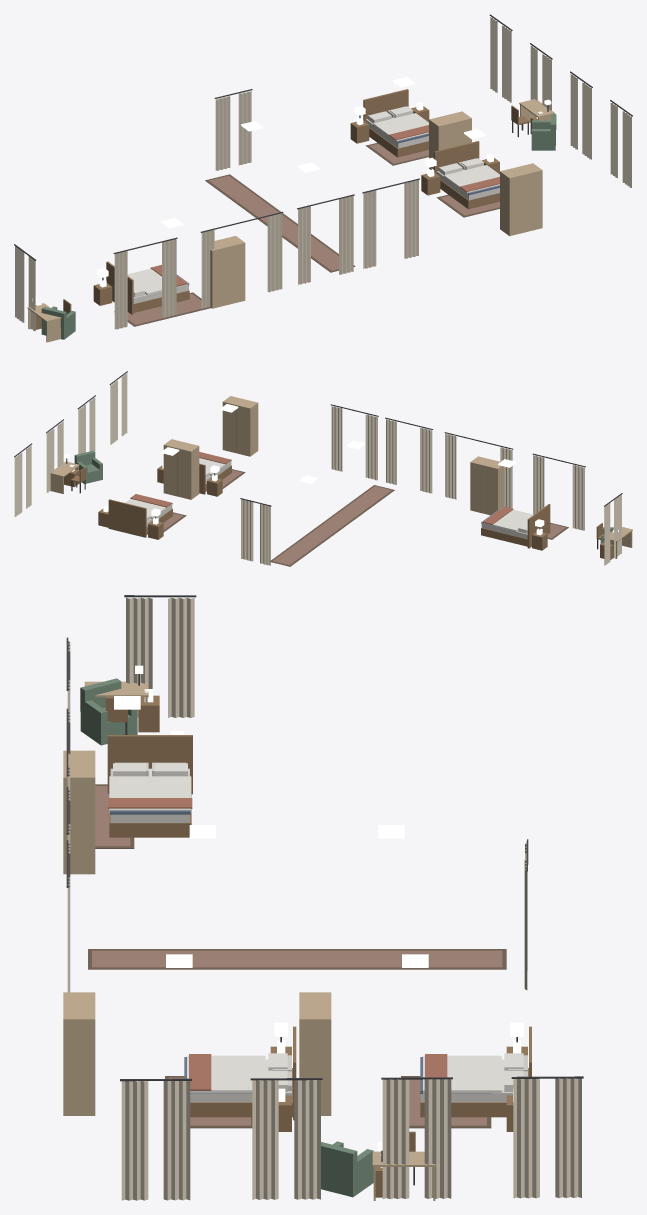
Rendered from fine-s1.glb.
3 renders of one model, top to bottom at view 1: azimuth 30°, elevation 25°; view 2: azimuth 150°, elevation 25°; view 3: azimuth 270°, elevation 25°, orthographic. The views are drawn at different scales.
Visible parts, largest first — view 1: soft-s1, dresser.002, dresser.000, bed-frame.001, bed-frame.002, dresser.001, bed-frame.000, lounge-chair.001, lounge-chair.000, writing-desk.000, writing-desk.001; view 2: soft-s1, dresser.002, dresser.001, dresser.000, bed-frame.001, bed-frame.000, lounge-chair.001, writing-desk.001, bed-frame.002, writing-desk.000, nightstand.000, nightstand.001 (+1 smaller); view 3: soft-s1, bed-frame.000, dresser.002, dresser.000, dresser.001, lounge-chair.001, bed-frame.002, lounge-chair.000, bed-frame.001, side-table.000.
Boxes of the visible parts, x1,y1,x2,y2 form: soft-s1: (14, 14, 632, 331); dresser.002: (500, 163, 542, 236); dresser.000: (210, 236, 245, 308); bed-frame.001: (363, 89, 428, 157); bed-frame.002: (434, 141, 499, 209); dresser.001: (429, 111, 471, 169); bed-frame.000: (106, 261, 189, 314); lounge-chair.001: (531, 114, 556, 150); lounge-chair.000: (41, 306, 75, 339); writing-desk.000: (27, 296, 61, 342); writing-desk.001: (519, 99, 554, 124); soft-s1: (14, 371, 622, 566); dresser.002: (222, 396, 258, 456); dresser.001: (163, 439, 199, 499); dresser.000: (470, 456, 504, 515); bed-frame.001: (108, 499, 172, 537); bed-frame.000: (481, 504, 550, 548); lounge-chair.001: (74, 451, 102, 483); writing-desk.001: (50, 454, 79, 493); bed-frame.002: (199, 460, 231, 494); writing-desk.000: (603, 527, 632, 558); nightstand.000: (532, 528, 547, 550); nightstand.001: (148, 517, 163, 539); soft-s1: (66, 595, 583, 1200); bed-frame.000: (107, 735, 192, 837); dresser.002: (63, 992, 95, 1115); dresser.000: (63, 750, 95, 874); dresser.001: (299, 992, 331, 1115); lounge-chair.001: (321, 1141, 373, 1197); bed-frame.002: (184, 1026, 296, 1120); lounge-chair.000: (80, 678, 137, 745); bed-frame.001: (420, 1026, 531, 1117); side-table.000: (138, 689, 159, 732).
Size of the model in its own units: 21.56 by 2.71 by 9.77.
